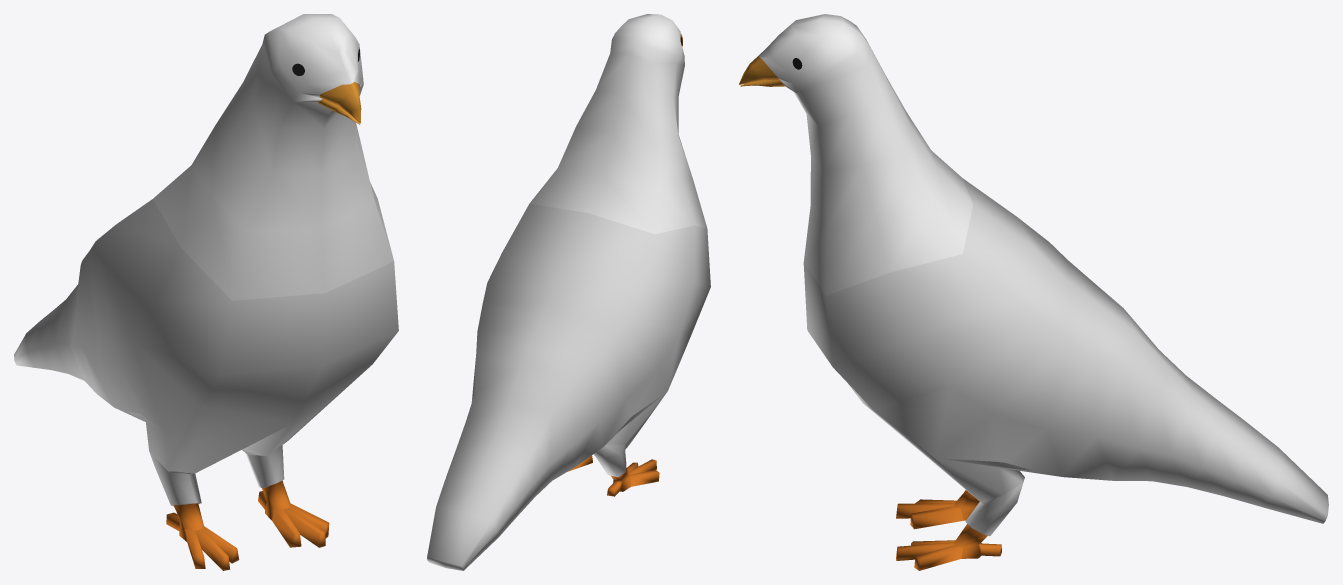
Rendered from Pigeon.fbx.
3 views of the same model, side by side, from view 1: azimuth 30°, elevation 25°; view 2: azimuth 150°, elevation 25°; view 3: azimuth 270°, elevation 25° (orthographic). The views are drawn at different scales.
Visible parts, largest first — view 1: Pigeon no wings; view 2: Pigeon no wings; view 3: Pigeon no wings.
Part boxes in pixels (x1,y1,x2,y2): Pigeon no wings: (14, 14, 398, 570); Pigeon no wings: (427, 14, 710, 570); Pigeon no wings: (739, 14, 1328, 570).
Size of the model in its own units: 0.2495 by 0.6074 by 0.6221.
